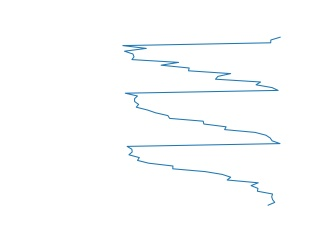distributaryMouthBar: (119, 34, 282, 206)
